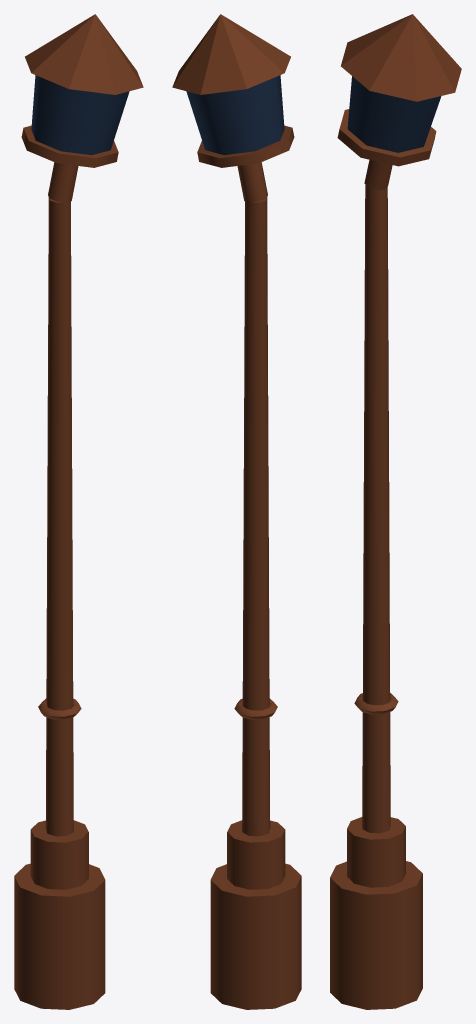
File: SM_LampPost_Old.fbx
3 views of the same model, side by side, from view 1: azimuth 30°, elevation 25°; view 2: azimuth 150°, elevation 25°; view 3: azimuth 330°, elevation 25° (orthographic).
Visible parts, largest first — view 1: SM_LampPost_Old; view 2: SM_LampPost_Old; view 3: SM_LampPost_Old.
Part boxes in pixels (bbox=[...]): SM_LampPost_Old: bbox=[14, 14, 143, 1009]; SM_LampPost_Old: bbox=[172, 14, 301, 1009]; SM_LampPost_Old: bbox=[330, 14, 461, 1009].
Size of what is drawn, in the model's own units: 0.6486 by 5.13 by 0.6.
